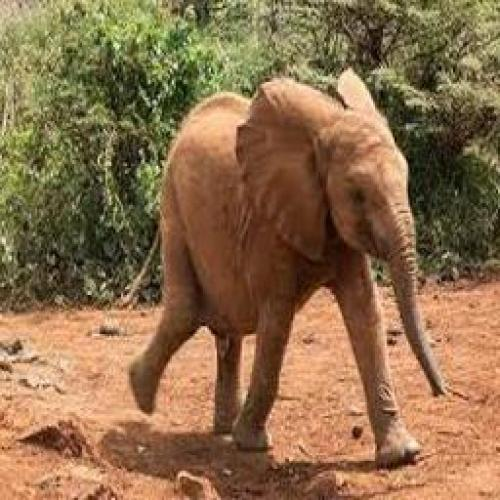african_elephant-endangered: (128, 70, 446, 466)
